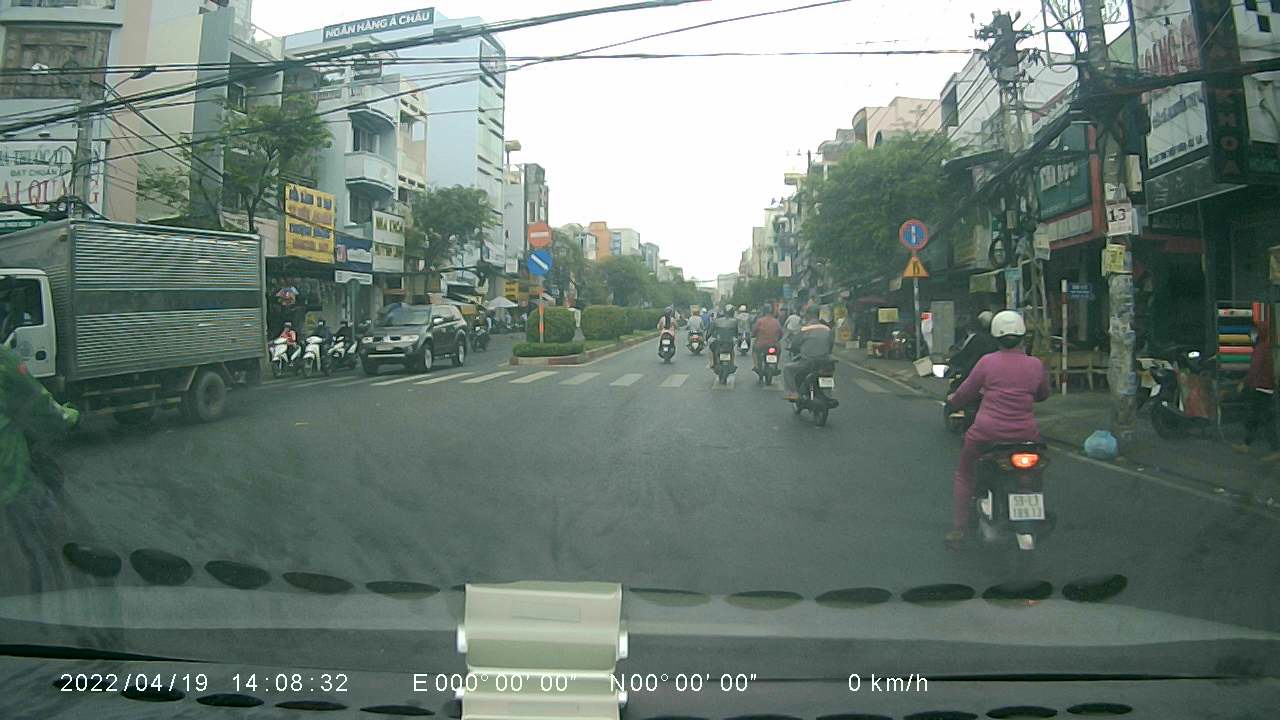Bien khac: (896, 217, 929, 250), (899, 251, 931, 279)
Cam di nguoc chieu: (524, 221, 556, 246)
Huong di phai re phai: (524, 248, 553, 277)
